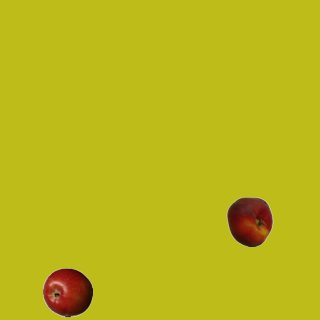Apple Braeburn: (42, 267, 92, 317)
Nectarine Flat: (224, 196, 274, 246)
